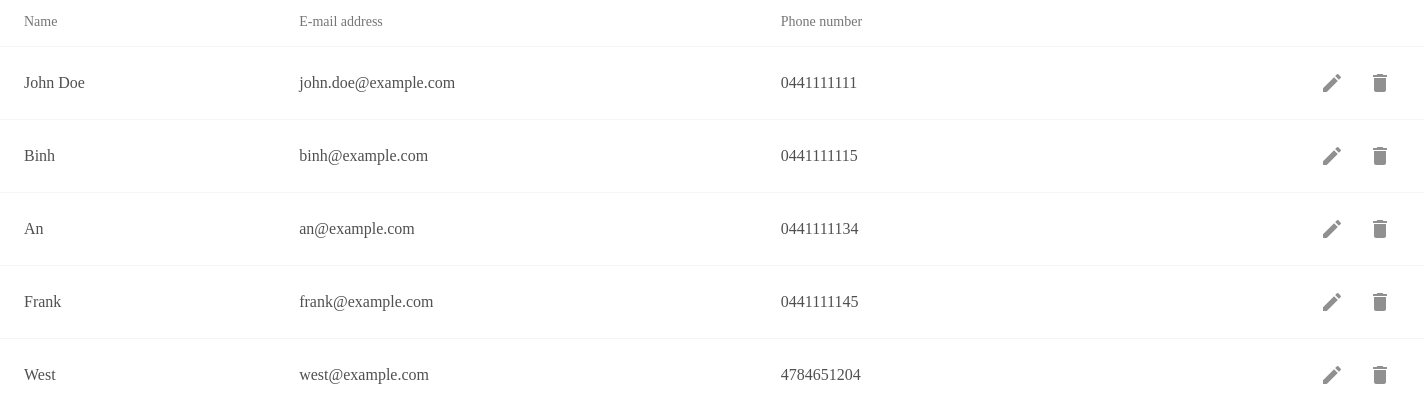
Test: Edit a row
The image size is (1425, 401).
Click the button with test id "edit-john-doe-id".
click(1332, 83)  # box [1312,71,1352,95]
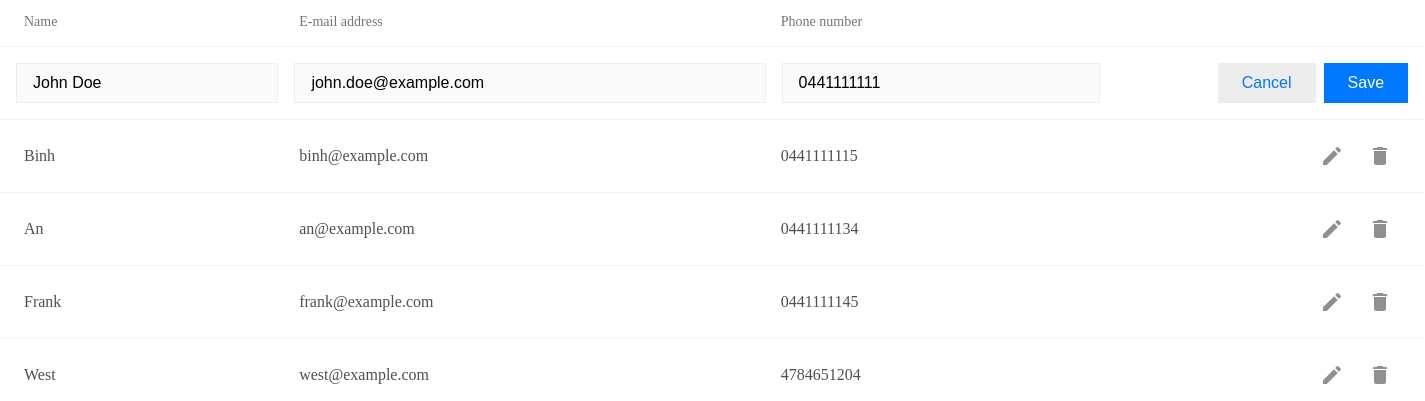
Expected: the 1st field showing "john doe" is shown
Expected: the 2nd field showing "john.doe@example.com" is shown, [294,63,766,103]
Expected: the 3rd field showing "0441111111" is shown, [782,63,1100,103]
Type "new name" into the 1st field showing "john doe".
click(147, 83); type("new name")  # box [16,63,278,103]
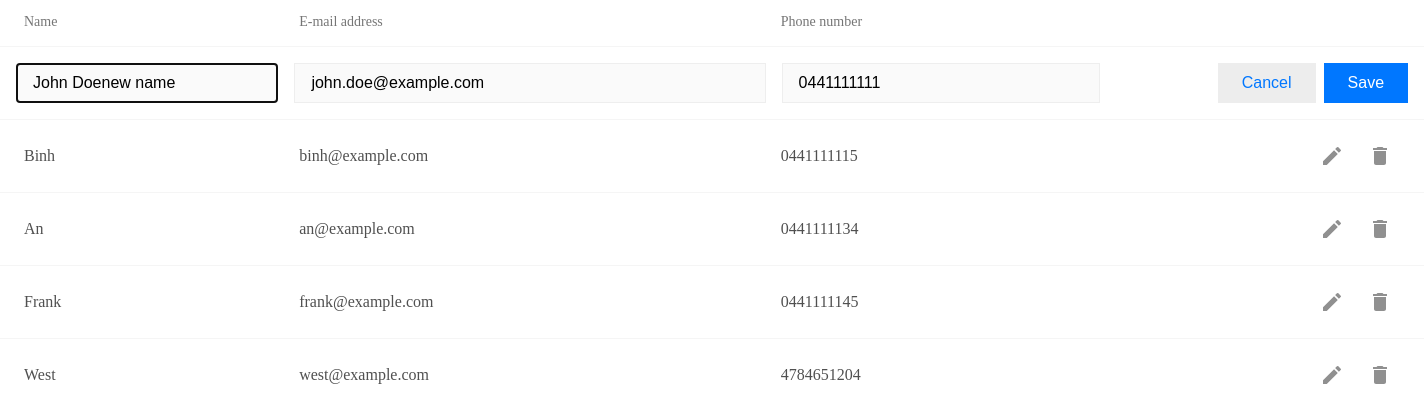
Click the button "Save".
click(1366, 83)  # box [1324,63,1408,103]
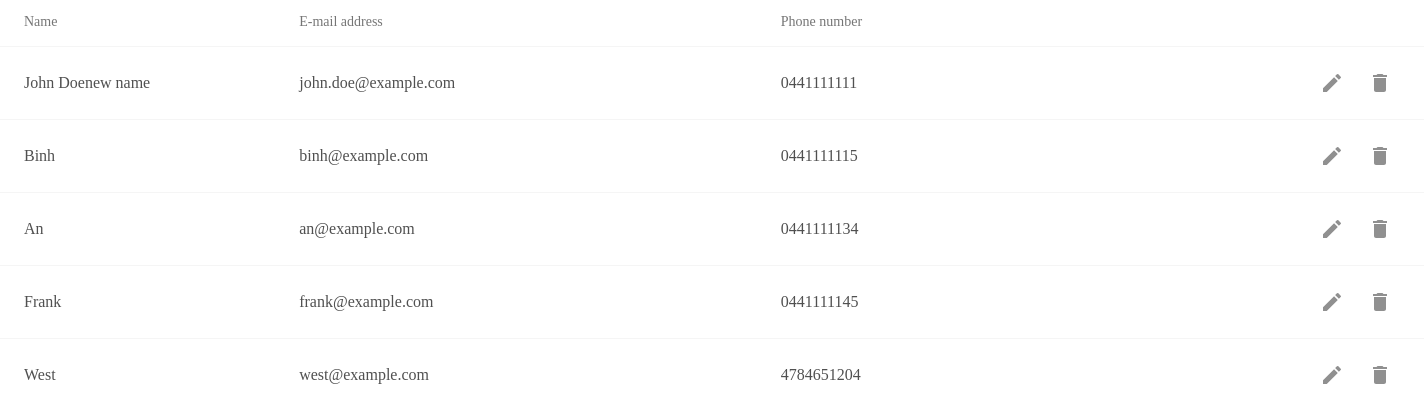
Expected: the text "John Doenew name" is shown, [24,74,150,91]
Expected: the text "0441111111" is shown, [781,74,857,91]
